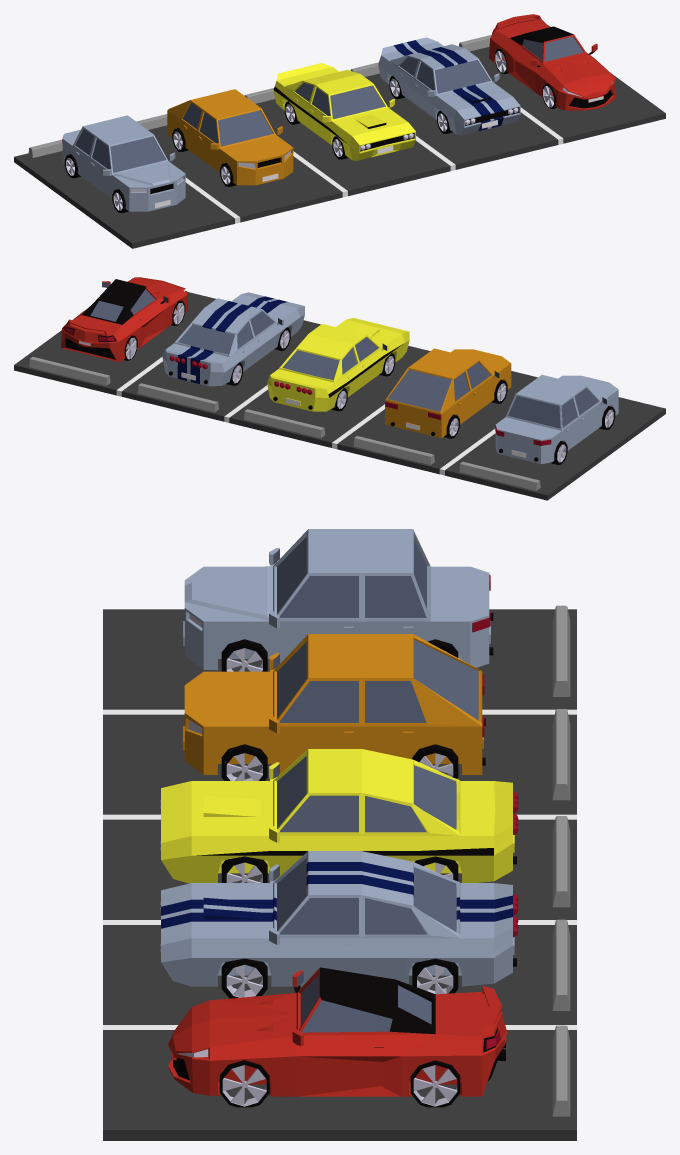
Rendered from HomeView.glb.
The picture shows the model from 3 angles, top to bottom: view 1: azimuth 30°, elevation 25°; view 2: azimuth 150°, elevation 25°; view 3: azimuth 270°, elevation 25°; orthographic projection. The views are drawn at different scales.
Parts seen in each view (by area): view 1: Muscle 2, Muscle, Hatchback, Sedan, Sports, Cube.001, Cube.005, Cube.003, Cube.007, Cube.009, Cube; view 2: Muscle, Muscle 2, Hatchback, Sedan, Sports, Cube.001, Cube.003, Cube.005, Cube.009, Cube.007, Cube, Cube.011 (+3 smaller); view 3: Muscle 2, Muscle, Sports, Hatchback, Cube.009, Sedan, Cube.001, Cube.003, Cube.007, Cube.005, Cube.010, Cube.011 (+12 smaller).
Boxes of the visible parts, x1,y1,x2,y2 form: Muscle 2: (378,37,520,135); Muscle: (273,63,415,160); Hatchback: (167,89,293,185); Sedan: (62,115,185,211); Sports: (489,14,616,110); Cube.001: (14,151,234,248); Cube.005: (255,99,450,196); Cube.003: (148,125,342,222); Cube.007: (365,73,558,169); Cube.009: (470,46,665,143); Cube: (28,139,62,157); Muscle: (267,318,409,411); Muscle 2: (162,292,304,386); Hatchback: (385,348,511,438); Sedan: (495,375,618,464); Sports: (61,277,188,362); Cube.001: (445,397,665,500); Cube.003: (337,371,537,474); Cube.005: (229,346,430,447); Cube.009: (14,278,215,395); Cube.007: (121,320,320,421); Cube: (459,462,540,490); Cube.011: (244,409,325,438); Muscle 2: (160,851,518,986); Muscle: (160,749,518,883); Sports: (168,967,507,1096); Hatchback: (183,634,485,774); Cube.009: (103,1030,576,1140); Sedan: (183,529,493,669); Cube.001: (103,609,576,709); Cube.003: (103,714,576,814); Cube.007: (103,925,576,1024); Cube.005: (103,819,576,919); Cube.010: (552,709,570,800); Cube.011: (552,816,570,907).
Size of the model in its own units: 2080 by 220 by 800.
